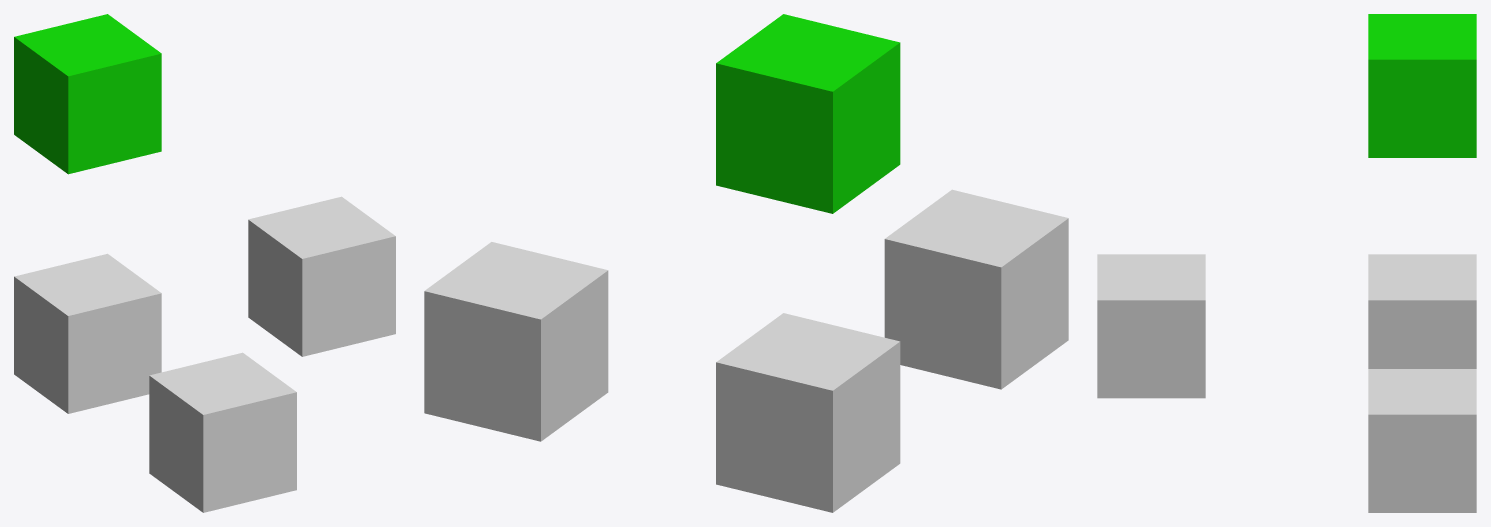
The model's file is 3_things.glb.
3 views of the same model, side by side, from view 1: azimuth 30°, elevation 25°; view 2: azimuth 150°, elevation 25°; view 3: azimuth 270°, elevation 25° (orthographic). The views are drawn at different scales.
Visible parts, largest first — view 1: Cube.001; view 2: Cube.001; view 3: Cube.001.
Boxes of the visible parts, x1,y1,x2,y2 form: Cube.001: (14, 14, 395, 512); Cube.001: (424, 14, 1068, 512); Cube.001: (1097, 14, 1476, 512).
Size of the model in its own units: 7 by 6.89 by 7.
